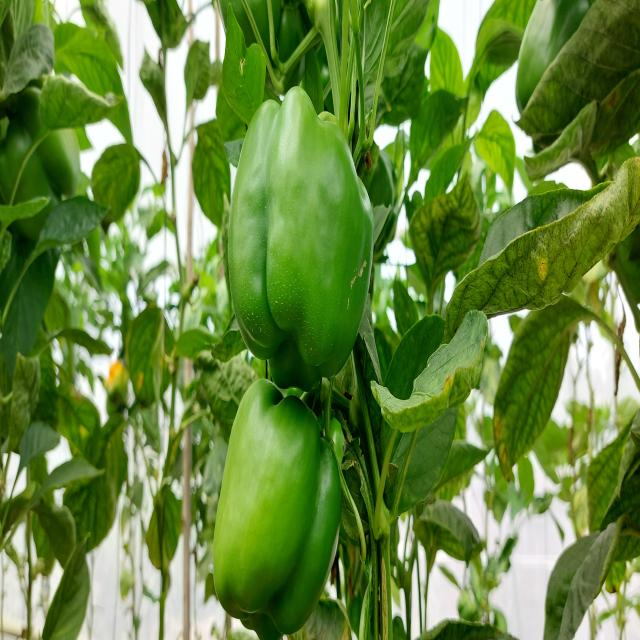Green--Not-ready-to-harvest: (229, 89, 375, 391), (212, 380, 344, 640)
